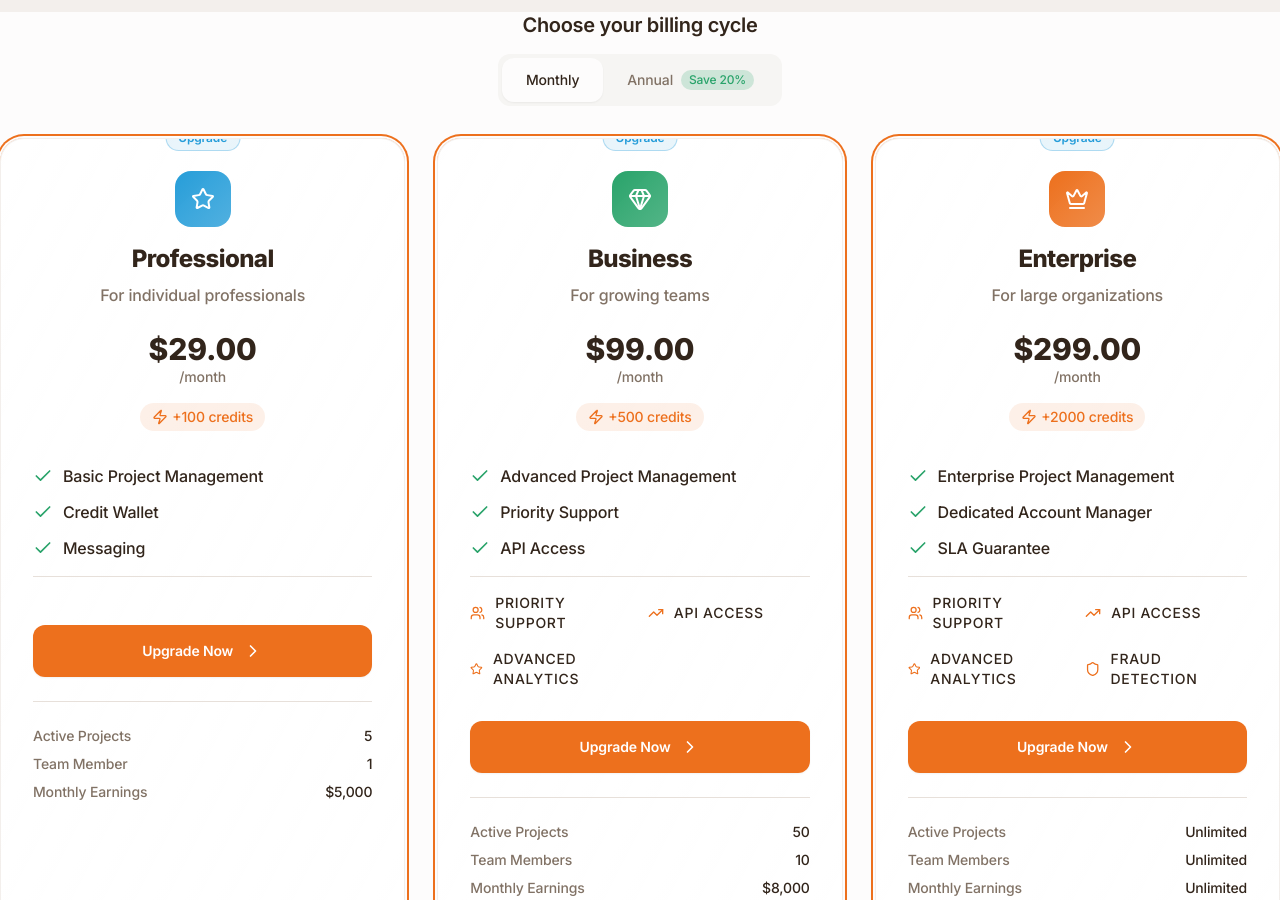
Test case: TierSelectionFlow › Tier Cards Rendering › should render annual pricing when Annual is selected
Click the button "Annual Save 20%": (691, 80) [603,58,778,102]
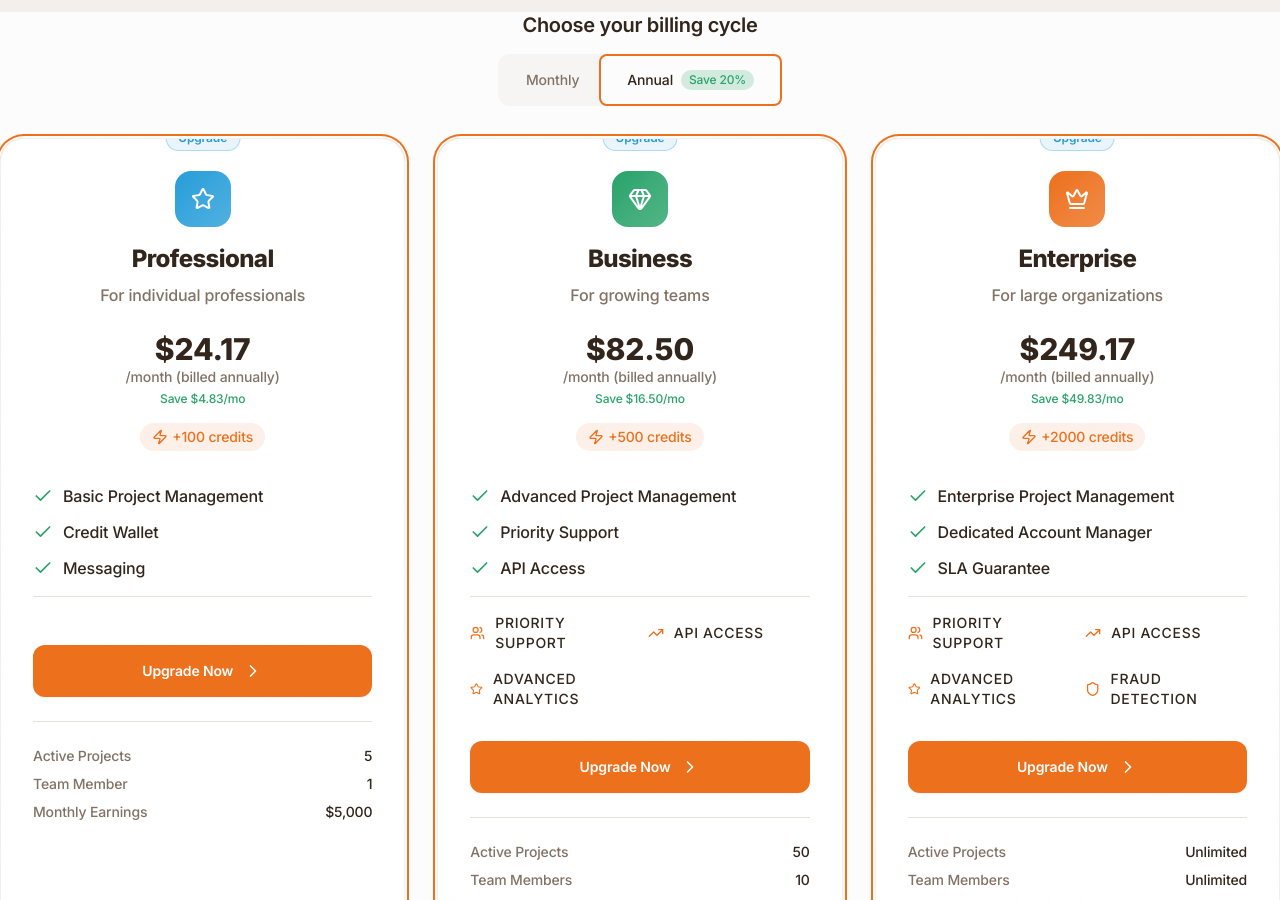
Expected: the text "$24.17" is shown, [155,331,251,367]
Expected: the text "billed annually" is shown, [126,368,280,385]
